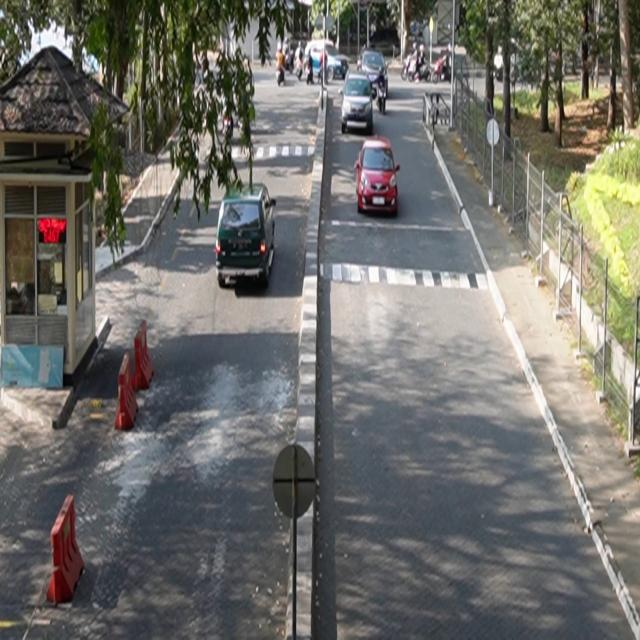car: (216, 183, 277, 290), (355, 137, 401, 217), (339, 72, 374, 135)
